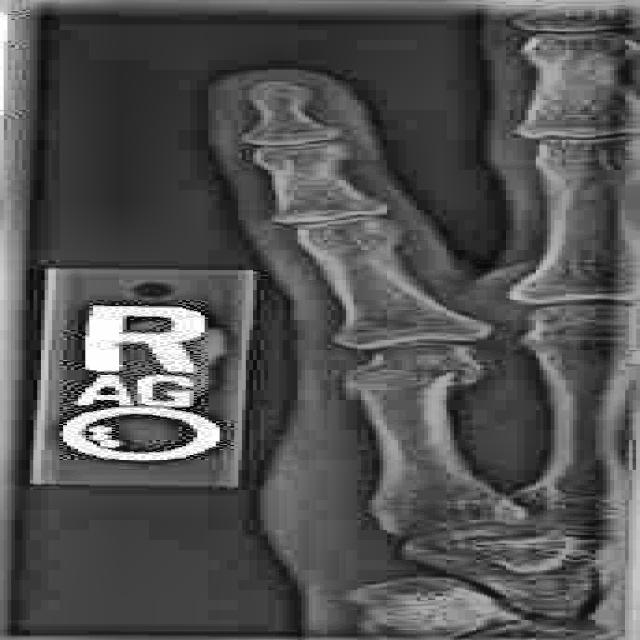fingers positive: (329, 354, 507, 407), (519, 149, 632, 174)
